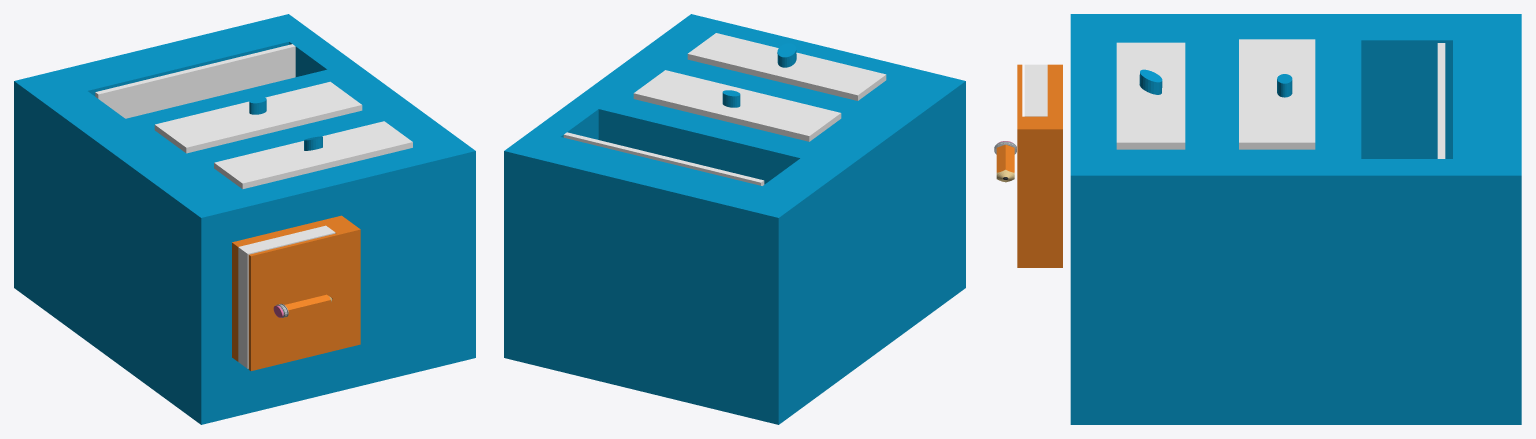
File: tinker.obj
The picture shows the model from 3 angles, left to right: view 1: azimuth 30°, elevation 25°; view 2: azimuth 150°, elevation 25°; view 3: azimuth 270°, elevation 25°; orthographic projection. The views are drawn at different scales.
Visible parts, largest first — view 1: group_0_40919, group_0_16448250, group_0_16089887; view 2: group_0_40919, group_0_16448250; view 3: group_0_40919, group_0_16448250, group_0_16089887.
Boxes of the visible parts, x1,y1,x2,y2 form: group_0_40919: (14, 14, 475, 424); group_0_16448250: (95, 44, 412, 368); group_0_16089887: (232, 215, 360, 370); group_0_40919: (504, 14, 965, 424); group_0_16448250: (563, 33, 886, 185); group_0_40919: (1070, 14, 1521, 424); group_0_16448250: (1024, 39, 1445, 158); group_0_16089887: (996, 64, 1062, 267).
Bounding box in the file's own units: 50 × 40 × 69.
